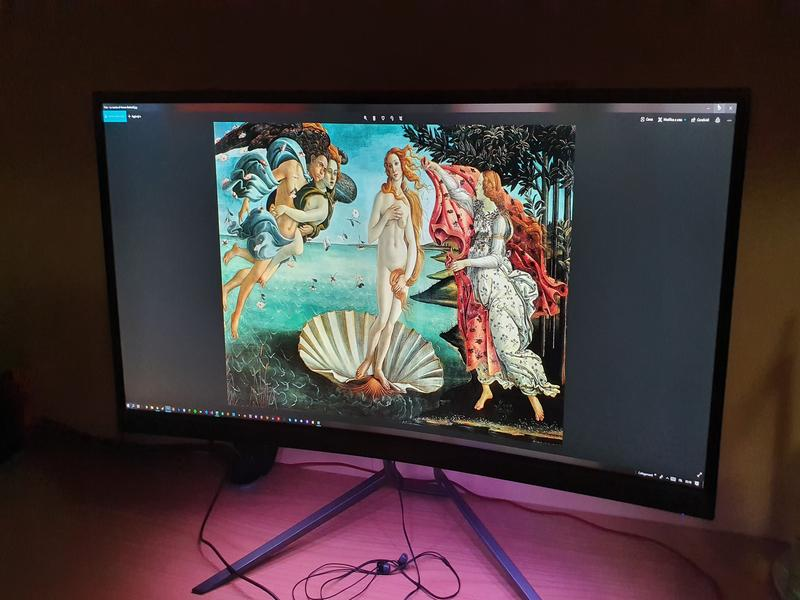Venere: (207, 116, 576, 443)
